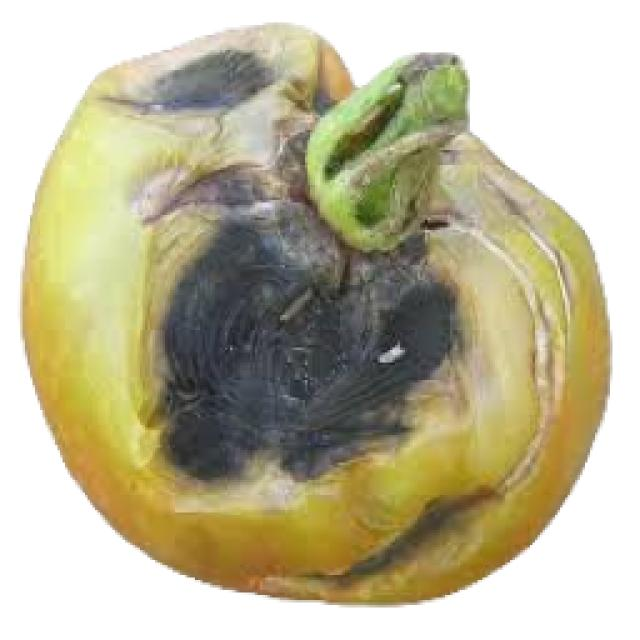Rotten: (19, 20, 614, 602)
